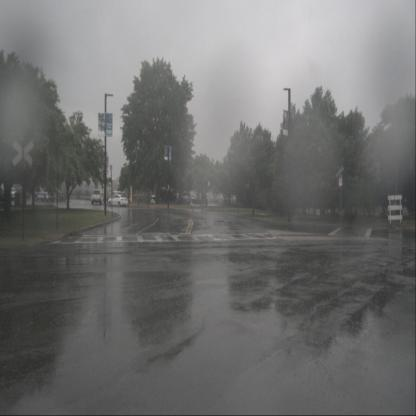vehicle-car: (108, 194, 128, 208), (112, 191, 127, 201), (7, 187, 17, 200)
vehicle-truck: (35, 185, 56, 203), (91, 189, 102, 205)
